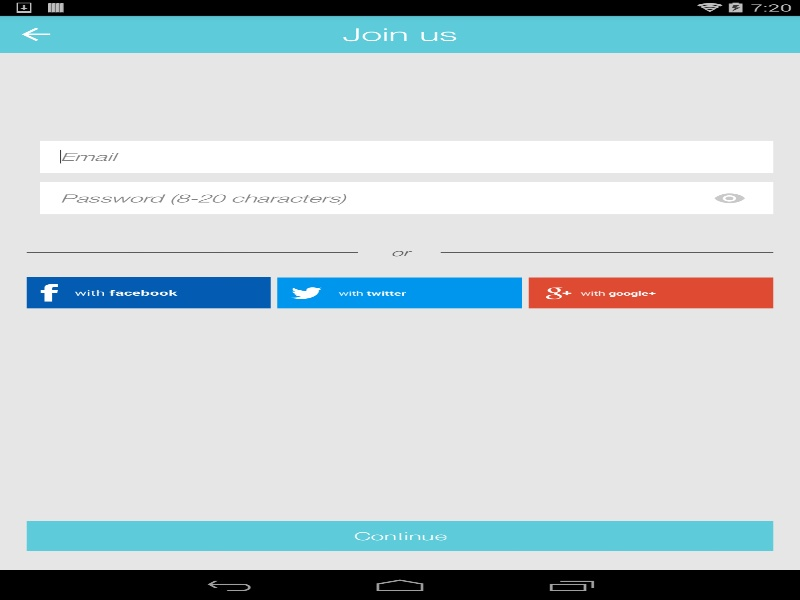Button: (26, 521, 773, 551), (277, 277, 522, 308), (528, 277, 773, 308), (26, 277, 270, 308)
Input: (40, 140, 773, 172), (40, 182, 773, 214)
